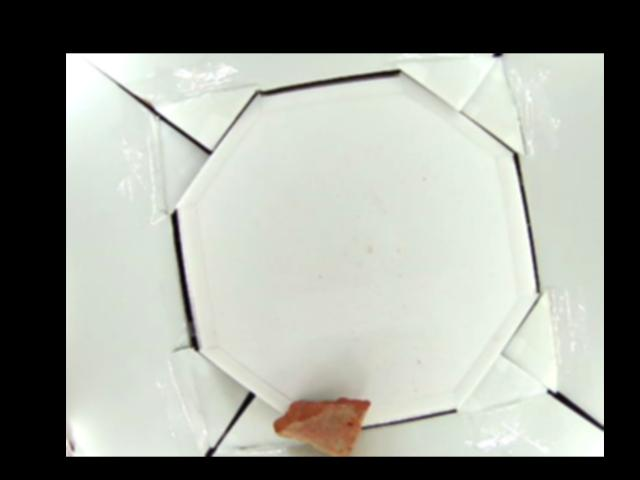Brisk: (272, 397, 371, 454)
